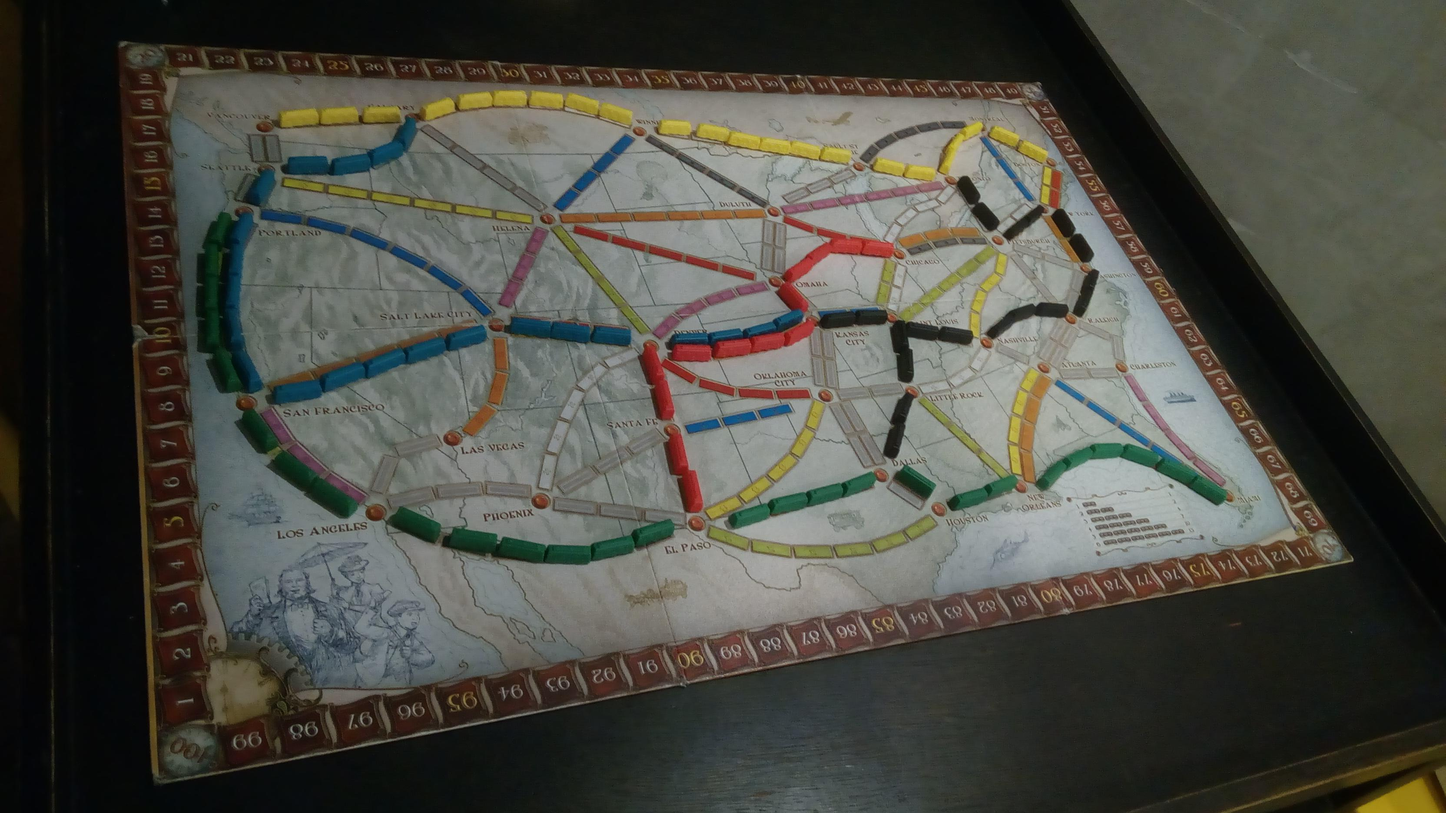black_train: (971, 202, 999, 231), (891, 393, 915, 424), (884, 423, 904, 458), (1070, 233, 1094, 262), (1051, 209, 1075, 238), (956, 176, 979, 205), (1074, 285, 1095, 316), (906, 321, 939, 340), (896, 347, 913, 383), (938, 327, 972, 344), (820, 312, 856, 328), (1003, 218, 1029, 239), (1006, 304, 1036, 322), (854, 308, 887, 324), (890, 321, 907, 352), (988, 318, 1013, 339), (1035, 302, 1068, 317), (1024, 204, 1044, 224), (1081, 270, 1099, 292)
blue_train: (233, 348, 263, 392), (320, 363, 365, 391), (242, 169, 275, 206), (273, 380, 323, 403), (365, 349, 405, 377), (227, 211, 254, 251), (405, 337, 445, 363), (368, 140, 405, 167), (446, 326, 487, 350), (222, 311, 245, 353), (508, 316, 551, 337), (330, 153, 371, 175), (551, 321, 591, 343), (283, 156, 330, 174), (590, 325, 630, 345), (393, 117, 416, 150), (223, 276, 241, 311), (774, 309, 803, 330), (224, 248, 243, 279), (671, 331, 710, 345), (709, 328, 744, 343), (744, 321, 774, 337)
green_train: (306, 479, 357, 518), (389, 507, 441, 542), (273, 451, 318, 490), (241, 410, 279, 451), (445, 527, 498, 554), (495, 536, 546, 562), (213, 347, 242, 392), (895, 466, 936, 497), (633, 519, 674, 546), (1156, 460, 1198, 486), (592, 536, 634, 561), (729, 504, 770, 528), (1122, 444, 1162, 468), (544, 544, 591, 564), (1190, 478, 1226, 504), (1036, 459, 1067, 489), (947, 488, 988, 510), (840, 471, 876, 496), (209, 212, 233, 249), (769, 493, 808, 515), (807, 483, 844, 506), (984, 474, 1017, 496), (204, 311, 220, 352), (1062, 448, 1092, 468), (204, 276, 218, 316), (1090, 443, 1124, 459), (205, 244, 218, 278)
red_train: (679, 469, 703, 512), (666, 433, 689, 475), (641, 344, 663, 386), (652, 381, 674, 420), (782, 320, 816, 345), (784, 256, 815, 283), (778, 285, 809, 310), (713, 338, 750, 358), (670, 344, 711, 361), (750, 333, 784, 352), (807, 242, 832, 265), (829, 238, 864, 254), (862, 241, 893, 257)
yellow_train: (421, 97, 456, 120), (565, 93, 599, 116), (599, 103, 632, 126), (280, 109, 319, 127), (320, 107, 359, 124), (362, 106, 403, 122), (696, 123, 730, 142), (458, 92, 493, 110), (1018, 141, 1048, 162), (530, 90, 563, 109), (872, 157, 905, 176), (989, 126, 1019, 146), (727, 131, 760, 149), (790, 141, 821, 159), (658, 119, 692, 135), (903, 164, 935, 181), (494, 90, 527, 106), (759, 137, 789, 154), (820, 147, 851, 163), (939, 149, 956, 175), (942, 133, 963, 153), (960, 122, 983, 139)
